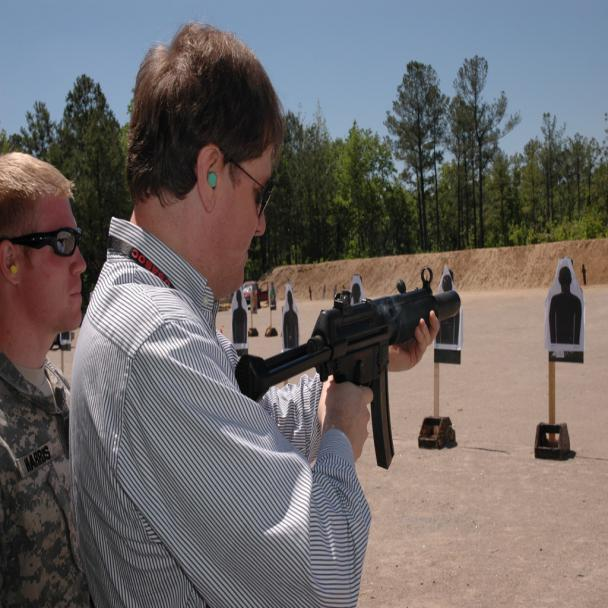Gun: (237, 286, 472, 394)
Hand: (316, 374, 375, 477), (388, 310, 444, 379)
